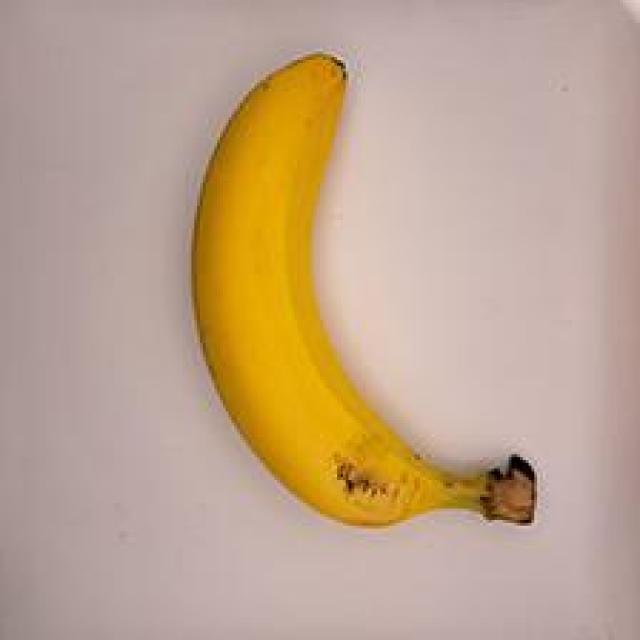ripe: (164, 29, 555, 559)
